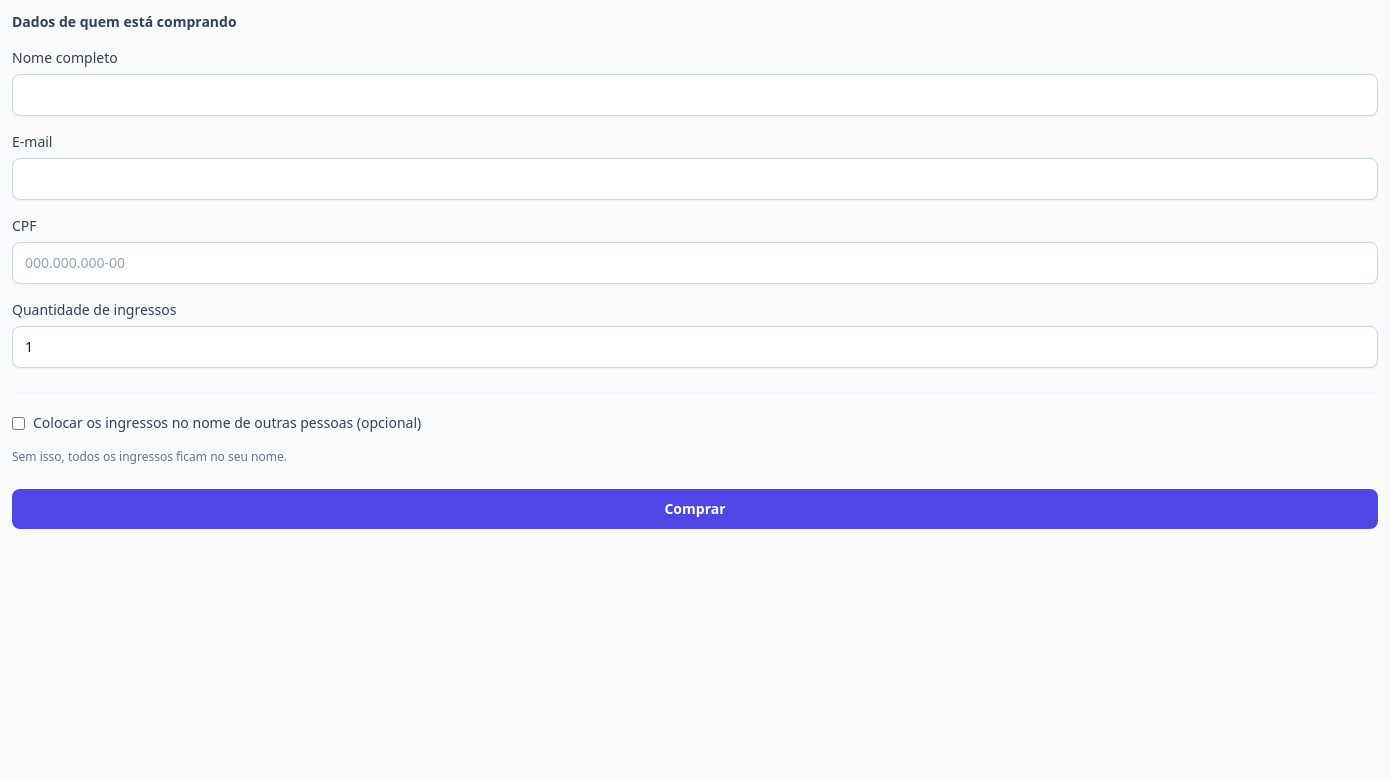
CheckoutForm (público) › com titulares separados, deixar um titular em branco bloqueia o envio
Type "Fulano de Tal" into the field labelled "Nome completo" at coordinates (695, 95), box [12,74,1378,116]
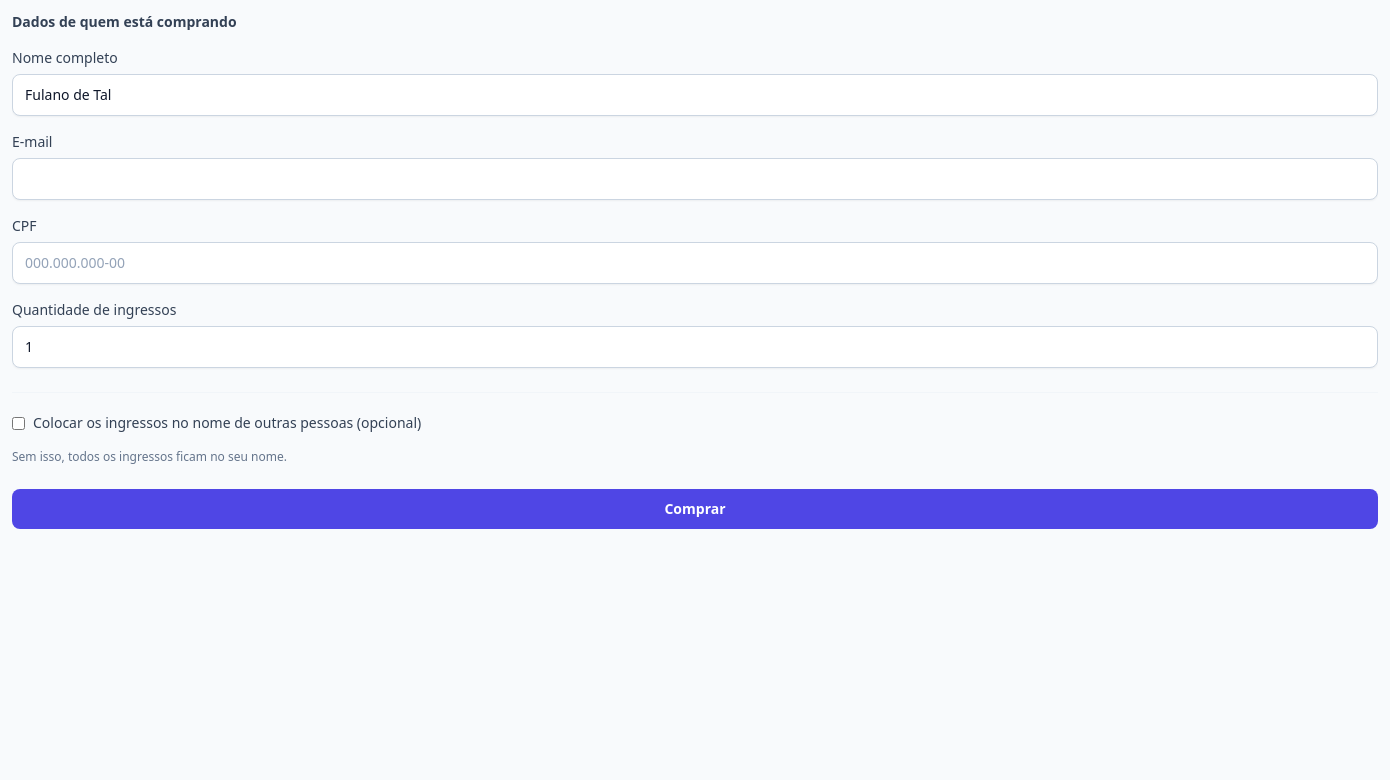
Type "fulano@example.com" into the field labelled "E-mail" at coordinates (695, 179), box [12,158,1378,200]
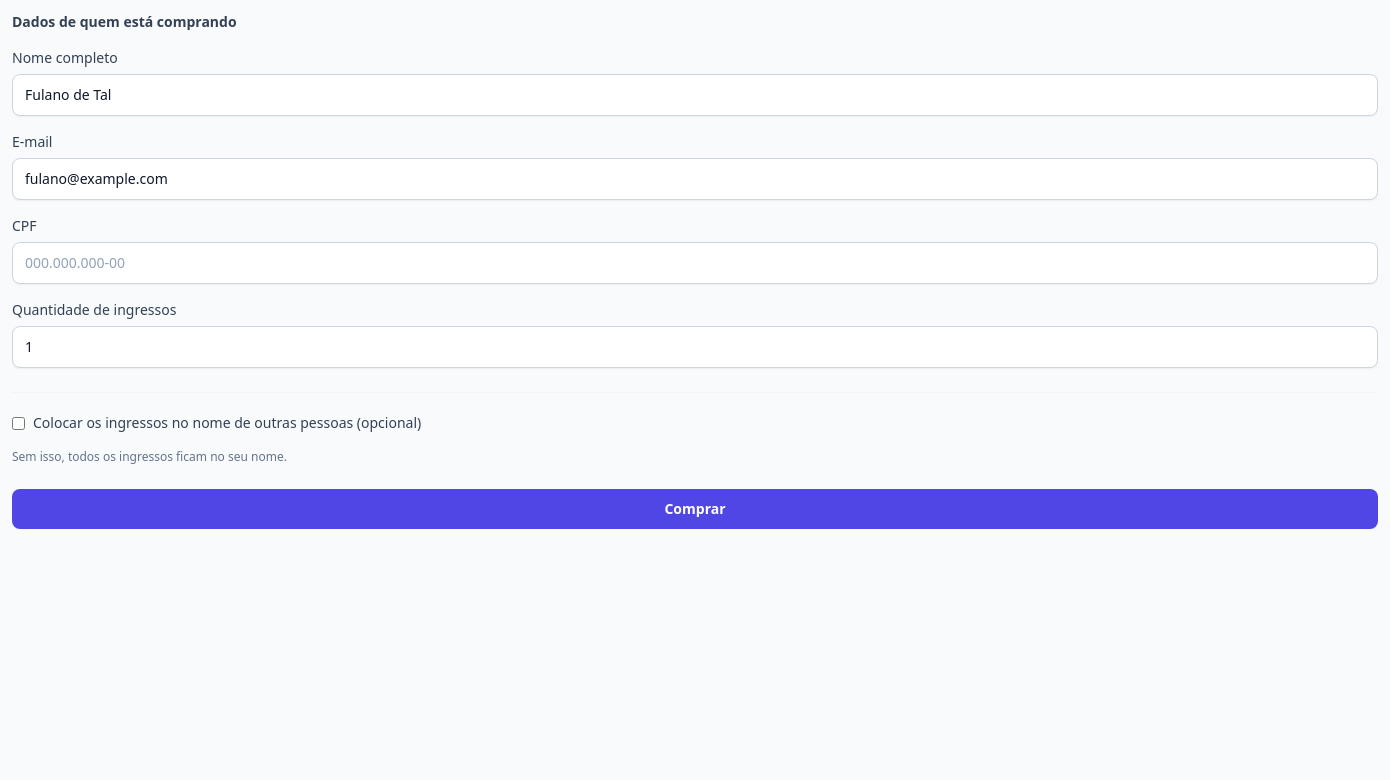
Type "52998224725" into the field labelled "CPF" at coordinates (695, 263), box [12,242,1378,284]
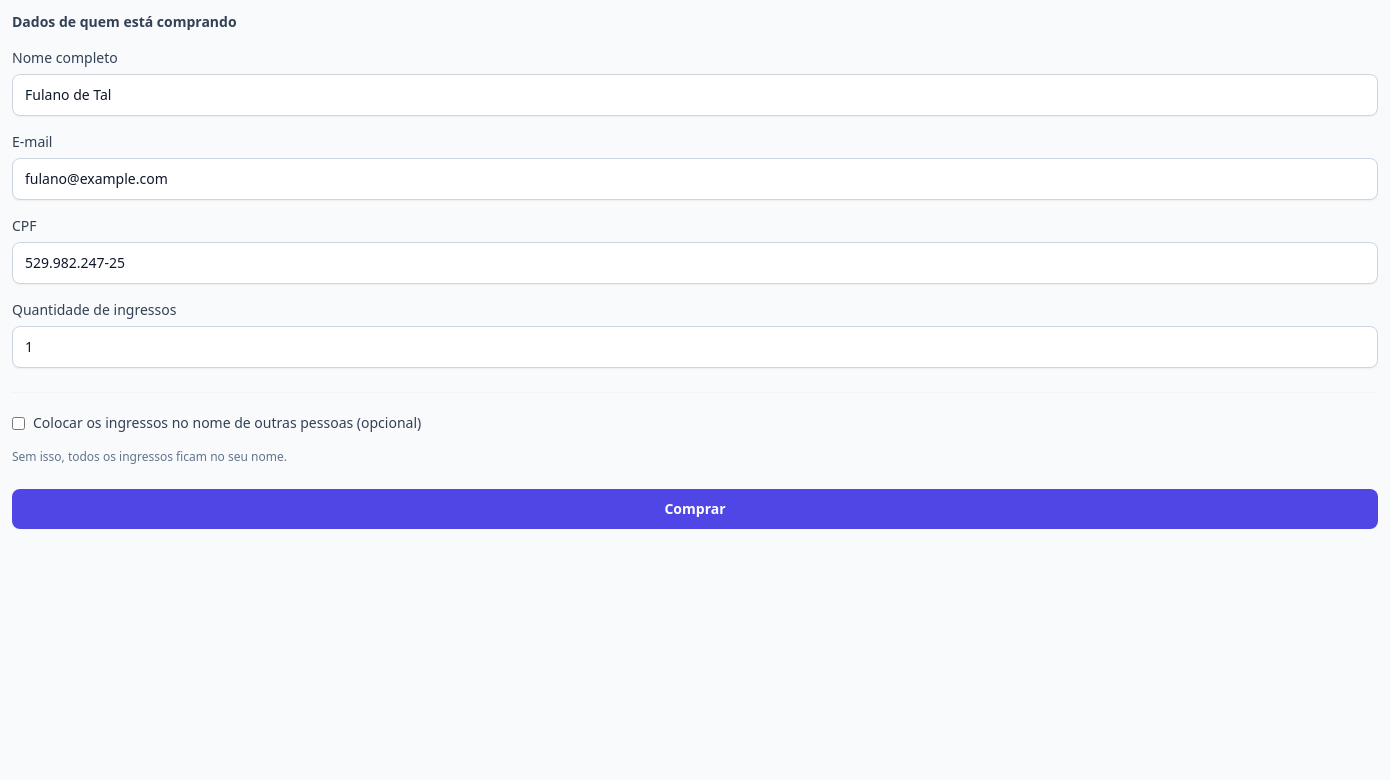
Click the checkbox labelled "Colocar os ingressos no nome de outras pessoas (opcional)" at coordinates (18, 423), box [12,416,25,430]
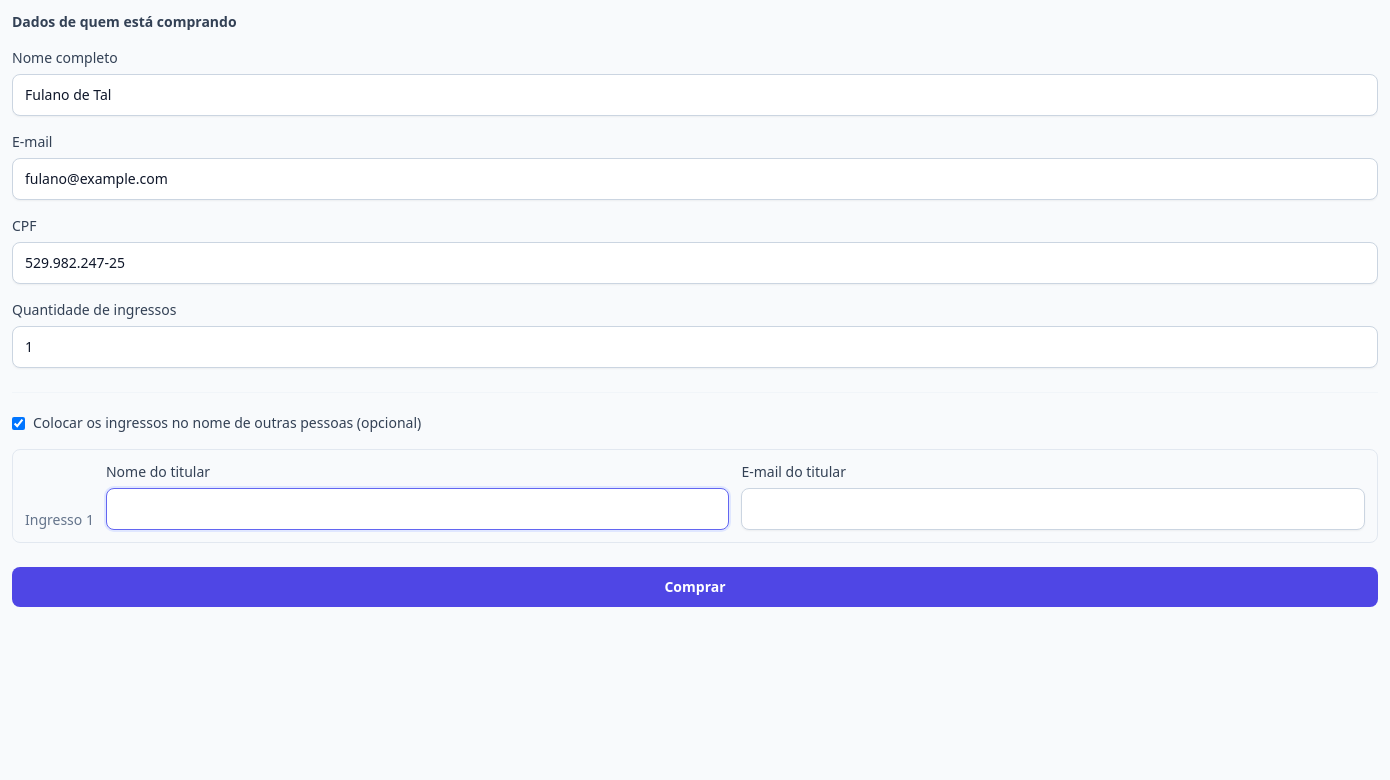
Result: the field labelled "Nome do titular" is shown at [106,488,730,530]
Click the button "Comprar" at coordinates (695, 587), box [12,567,1378,607]
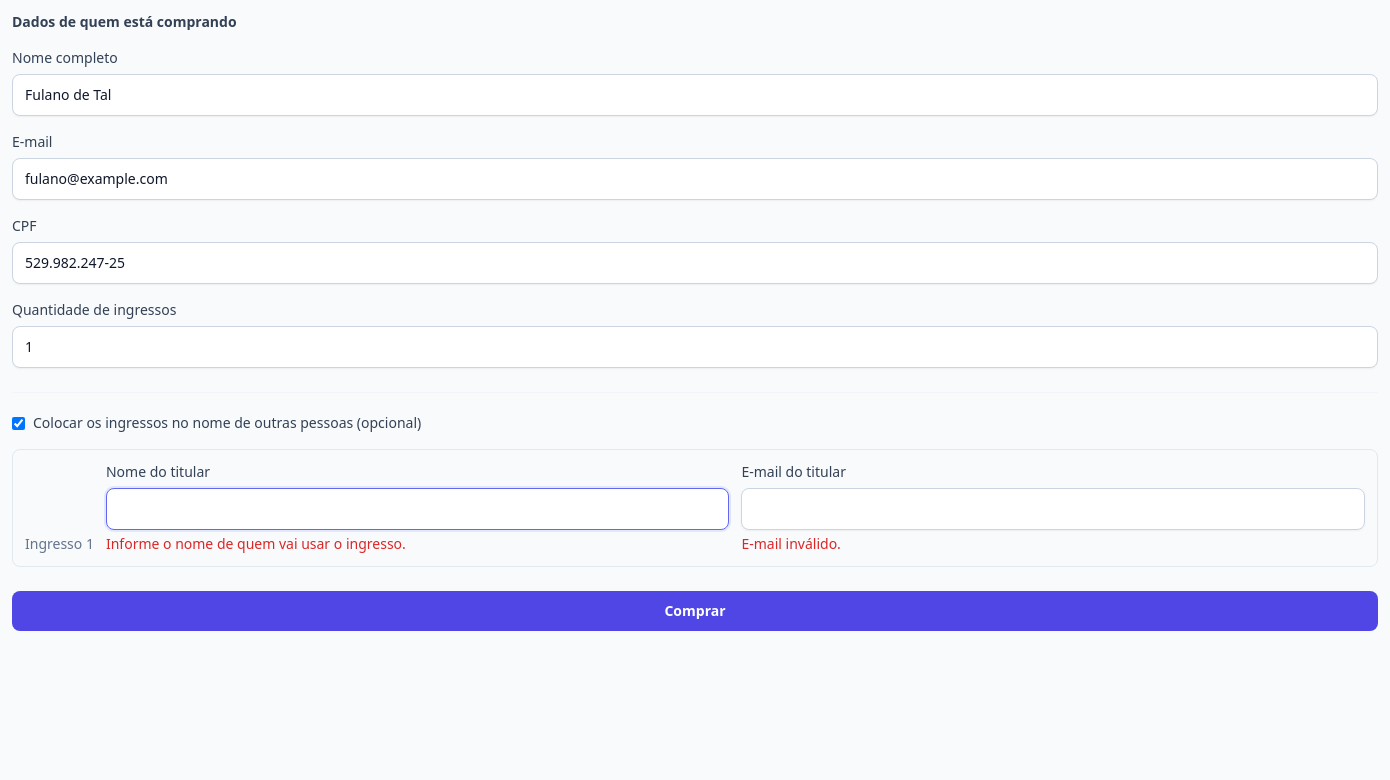
Result: the text "Informe o nome de quem vai usar o ingresso." is shown at [106,534,406,553]
